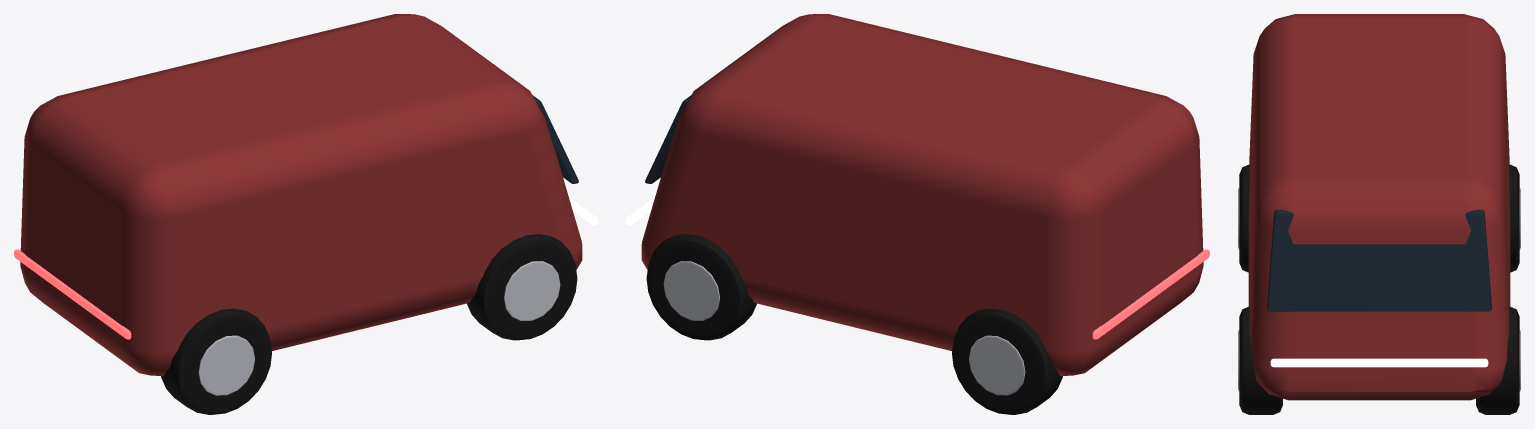
The model's file is ev-van.glb.
The picture shows the model from 3 angles, left to right: view 1: azimuth 30°, elevation 25°; view 2: azimuth 150°, elevation 25°; view 3: azimuth 270°, elevation 25°; orthographic projection. The views are drawn at different scales.
Visible parts, largest first — view 1: body, wheel--11--1-tyre, wheel-+11--1-tyre, wheel--11--1-hub, wheel-+11--1-hub, lightbar-rear, windscreen; view 2: body, wheel--11-1-tyre, wheel-+11-1-tyre, wheel--11-1-hub, wheel-+11-1-hub, lightbar-rear, windscreen; view 3: body, windscreen, lightbar-front, wheel-+11-1-tyre, wheel-+11--1-tyre, wheel--11-1-tyre, wheel--11--1-tyre.
Boxes of the visible parts, left/top/right/bottom form: body: left=20, top=14, right=582, bottom=376; wheel--11--1-tyre: left=161, top=308, right=271, bottom=414; wheel-+11--1-tyre: left=467, top=234, right=577, bottom=340; wheel--11--1-hub: left=198, top=335, right=254, bottom=395; wheel-+11--1-hub: left=504, top=261, right=560, bottom=320; lightbar-rear: left=14, top=249, right=131, bottom=339; windscreen: left=533, top=95, right=578, bottom=183; body: left=641, top=14, right=1203, bottom=376; wheel--11-1-tyre: left=952, top=308, right=1062, bottom=414; wheel-+11-1-tyre: left=646, top=234, right=756, bottom=340; wheel--11-1-hub: left=969, top=335, right=1025, bottom=395; wheel-+11-1-hub: left=663, top=261, right=719, bottom=320; lightbar-rear: left=1092, top=249, right=1209, bottom=339; windscreen: left=645, top=95, right=690, bottom=183; body: left=1248, top=14, right=1510, bottom=400; windscreen: left=1267, top=209, right=1491, bottom=311; lightbar-front: left=1270, top=358, right=1488, bottom=367; wheel-+11-1-tyre: left=1476, top=306, right=1519, bottom=414; wheel-+11--1-tyre: left=1239, top=306, right=1282, bottom=414; wheel--11-1-tyre: left=1509, top=164, right=1519, bottom=272; wheel--11--1-tyre: left=1239, top=164, right=1249, bottom=272.
Size of the model in its own units: 33.4 by 16.4 by 18.17.
